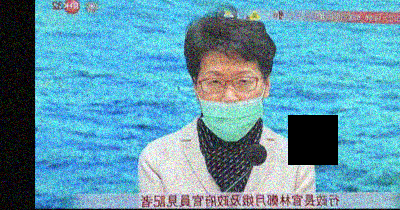mask_weared_incorrect: (196, 67, 264, 142)
